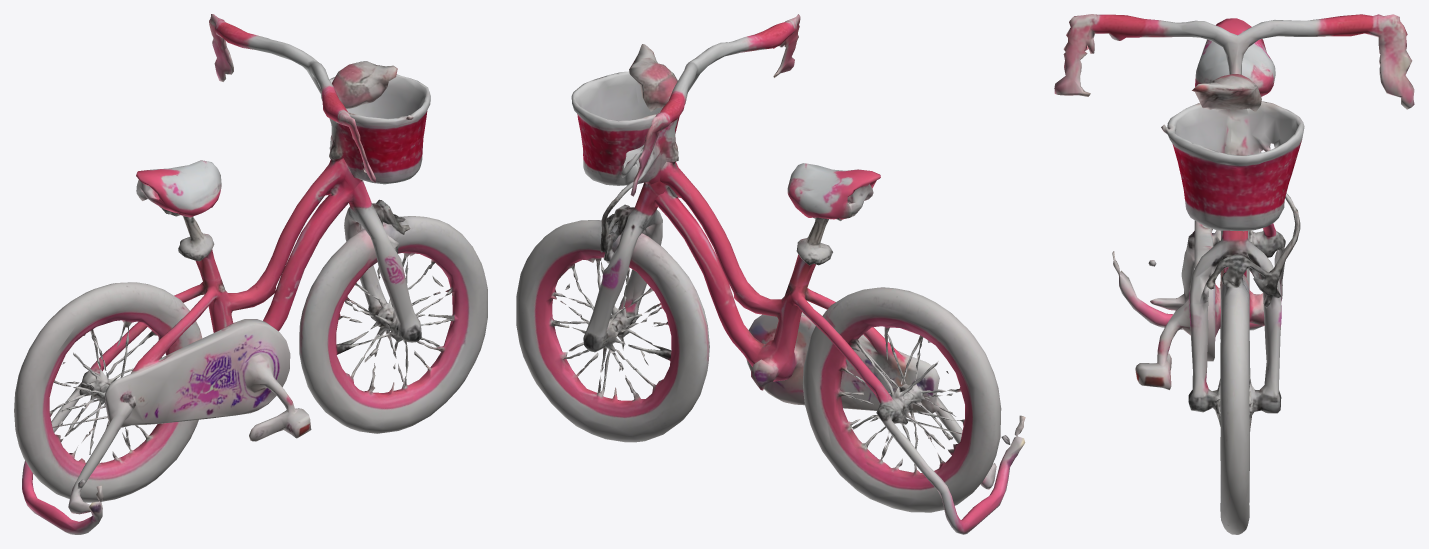
Rendered from bicycle_trellis_textured.glb.
3 views of the same model, side by side, from view 1: azimuth 30°, elevation 25°; view 2: azimuth 150°, elevation 25°; view 3: azimuth 270°, elevation 25° (orthographic). The views are drawn at different scales.
Visible parts, largest first — view 1: world; view 2: world; view 3: world.
Part boxes in pixels (x1,y1,x2,y2): world: (14, 14, 487, 534); world: (516, 14, 1025, 534); world: (1054, 14, 1414, 534).
Size of the model in its own units: 1 by 0.8114 by 0.5825.
1 material, 1 textured.
